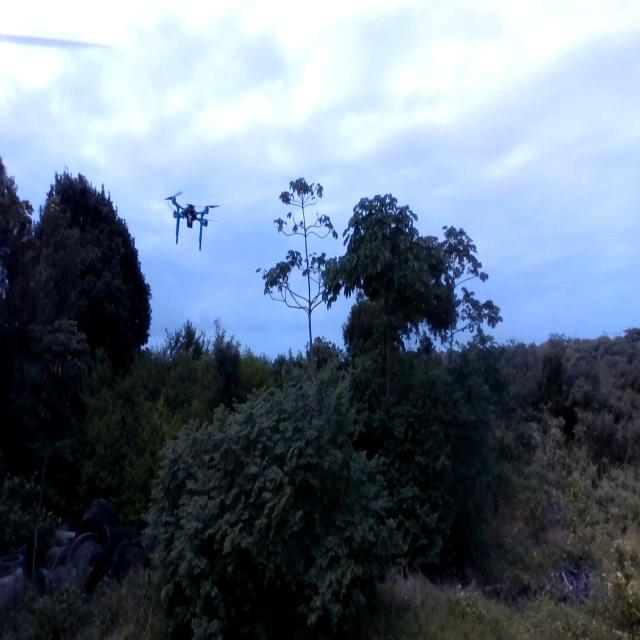-uav-: (162, 183, 220, 260)
